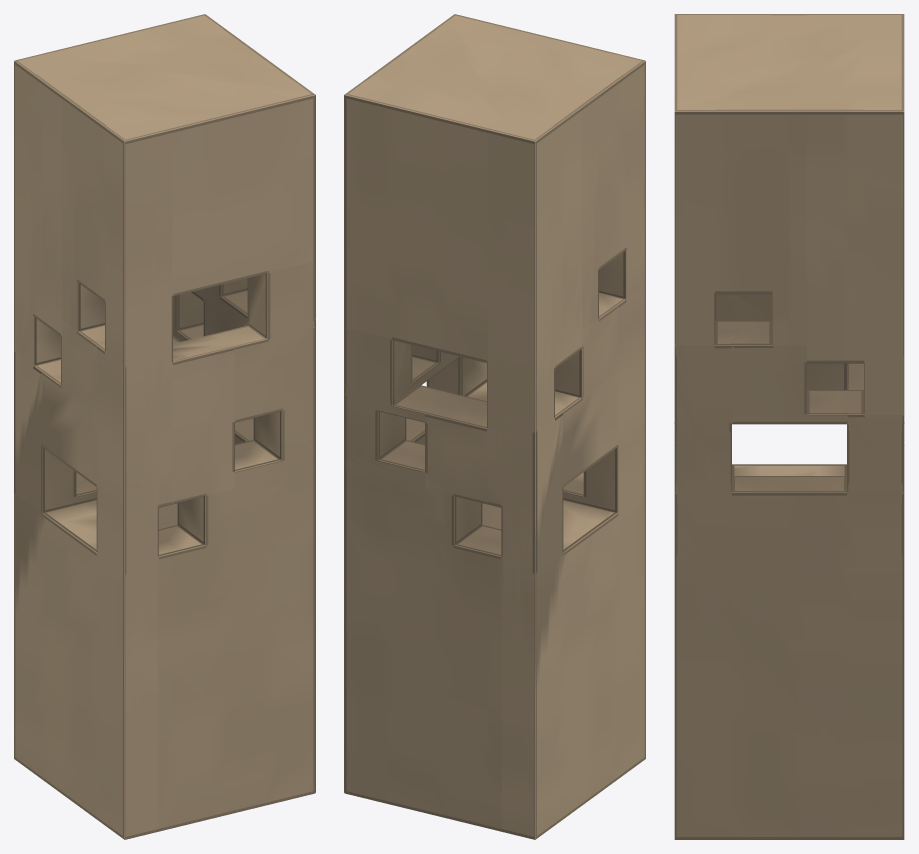
The picture shows the model from 3 angles, left to right: view 1: azimuth 30°, elevation 25°; view 2: azimuth 150°, elevation 25°; view 3: azimuth 270°, elevation 25°; orthographic projection. The views are drawn at different scales.
Visible parts, largest first — view 1: part-a; view 2: part-a; view 3: part-a.
Boxes of the visible parts, left/top/right/bottom form: part-a: left=14, top=14, right=315, bottom=839; part-a: left=344, top=14, right=645, bottom=839; part-a: left=674, top=14, right=904, bottom=839.
Bounding box in the file's own units: 0.1208 × 0.4208 × 0.1208.
